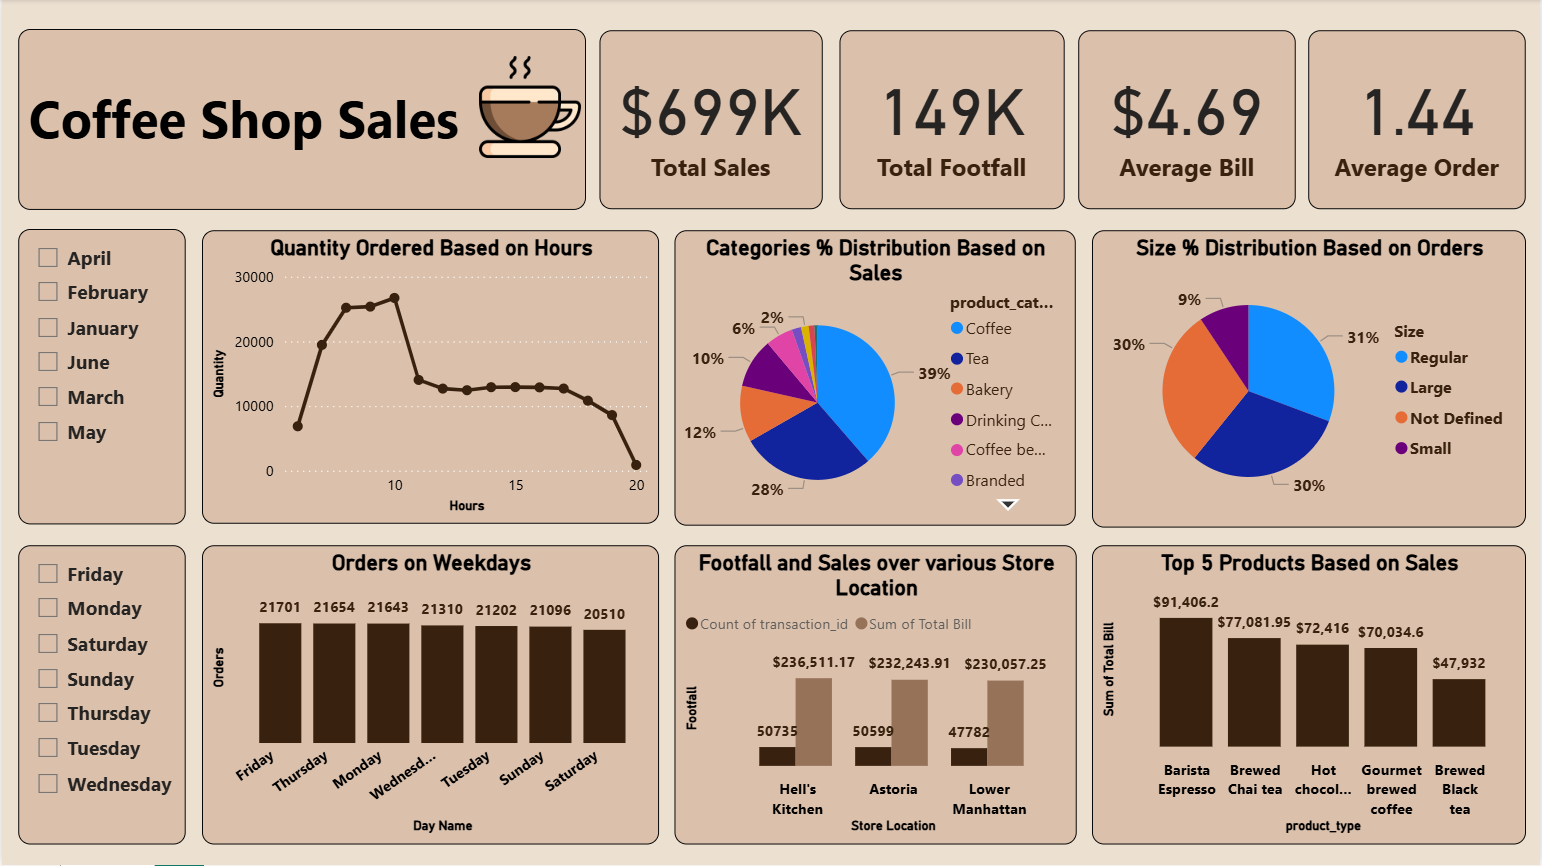

What the dashboard file says about the page in this screenshot:
{"tool":"powerbi","page":{"name":"Page 1","canvas":[1280,720],"ordinal":0},"visuals":[{"type":"lineChart","title":"Quantity Ordered Based on Hours","fields":{"Category":["Transactions.Hour"],"Y":["Sum(Transactions.transaction_qty)"]},"box":[166.6,192.4,380.2,243.9],"z":0},{"type":"columnChart","title":"Orders on Weekdays","fields":{"Category":["Transactions.Day Name"],"Y":["CountNonNull(Transactions.transaction_id)"]},"box":[166.6,454.4,380.2,248.4],"z":1000},{"type":"slicer","fields":{"Values":["Transactions.Month Name"]},"box":[13.6,190.9,139.4,245.4],"z":2000},{"type":"pieChart","title":"Categories % Distribution Based on Sales","fields":{"Category":["Transactions.product_category"],"Y":["Sum(Transactions.Total Bill)"]},"box":[559,192.4,333.3,245.4],"z":3000},{"type":"columnChart","title":"Top 5 Products Based on Sales","fields":{"Category":["Transactions.product_type"],"Y":["Sum(Transactions.Total Bill)"]},"box":[905.8,454.4,360.5,248.4],"z":4000},{"type":"clusteredColumnChart","title":"Footfall and Sales over various Store Location","fields":{"Category":["Transactions.store_location"],"Y":["CountNonNull(Transactions.transaction_id)","Sum(Transactions.Total Bill)"]},"box":[559,454.4,334.8,248.4],"z":5000},{"type":"pieChart","title":"Size % Distribution Based on Orders","fields":{"Category":["Transactions.Size"],"Y":["CountNonNull(Transactions.transaction_id)"]},"box":[905.8,192.4,360.5,246.9],"z":6000},{"type":"slicer","title":"Orders on Weekdays","fields":{"Values":["Transactions.Day Name"]},"box":[13.6,454.4,139.4,248.4],"z":7000},{"type":"card","fields":{"Values":["Transactions.Average Order per Person"]},"box":[1085.8,26.5,181,148.6],"z":8000},{"type":"card","fields":{"Values":["Transactions.Average Bill"]},"box":[894.5,26.5,181,148.6],"z":9000},{"type":"card","fields":{"Values":["Transactions.Total Footfall"]},"box":[695.9,26.5,186.9,148.6],"z":10000},{"type":"card","fields":{"Values":["Transactions.Total Sales"]},"box":[497.3,26.5,185.4,148.6],"z":11000},{"type":"textbox","box":[13.2,25,472.3,150.1],"z":12000},{"type":"image","box":[392,43.1,94.5,94.5],"z":13000}]}

Visuals, with their boxes in screenshot pixels (x1, y1, x2, y2), scaled from the page's 1280x720 canvas onto the 1542x866 screenshot:
"Quantity Ordered Based on Hours" lineChart: box(201, 231, 659, 525)
"Orders on Weekdays" columnChart: box(201, 547, 659, 845)
slicer - Transactions.Month Name: box(16, 230, 184, 525)
"Categories % Distribution Based on Sales" pieChart: box(673, 231, 1075, 527)
"Top 5 Products Based on Sales" columnChart: box(1091, 547, 1525, 845)
"Footfall and Sales over various Store Location" clusteredColumnChart: box(673, 547, 1077, 845)
"Size % Distribution Based on Orders" pieChart: box(1091, 231, 1525, 528)
"Orders on Weekdays" slicer: box(16, 547, 184, 845)
card - Transactions.Average Order per Person: box(1308, 32, 1526, 211)
card - Transactions.Average Bill: box(1078, 32, 1296, 211)
card - Transactions.Total Footfall: box(838, 32, 1063, 211)
card - Transactions.Total Sales: box(599, 32, 822, 211)
textbox: box(16, 30, 585, 211)
image: box(472, 52, 586, 166)
